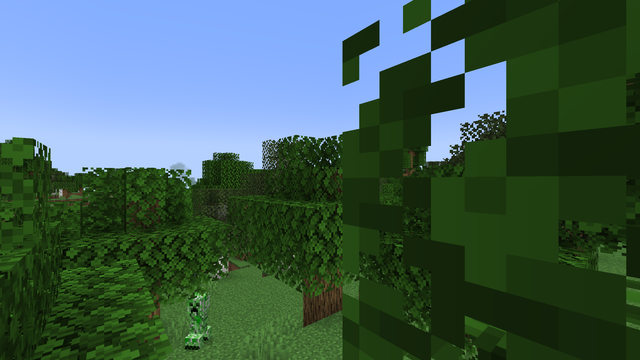creepers: (187, 291, 210, 350)
